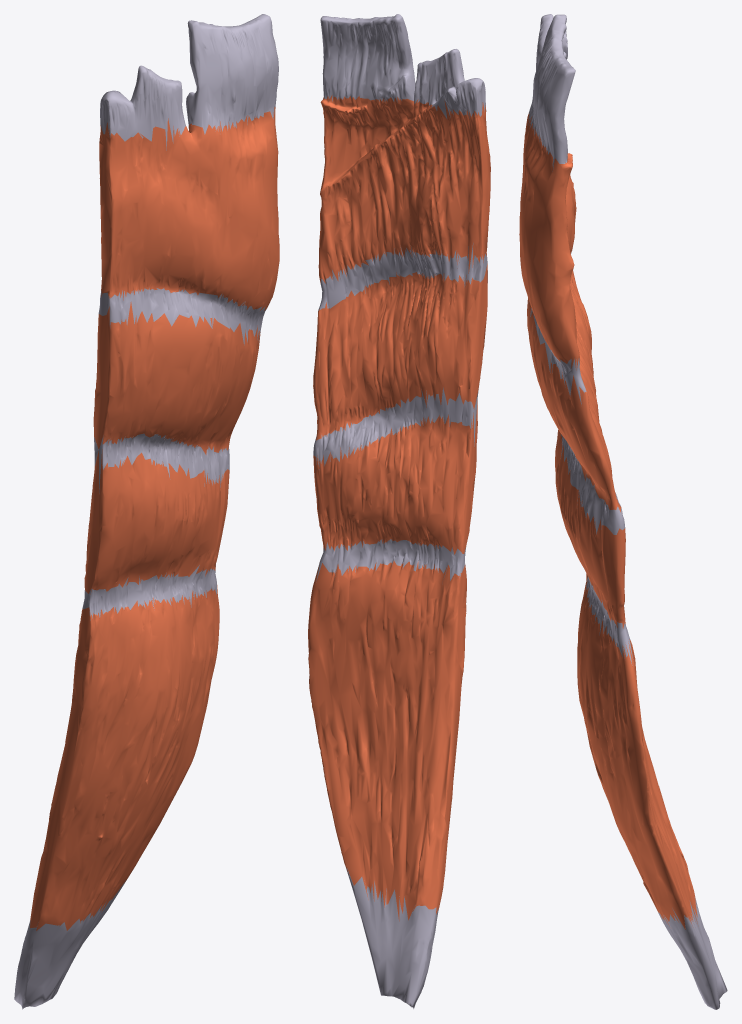
File: Rectus_abdominis_left.glb
The picture shows the model from 3 angles, left to right: view 1: azimuth 30°, elevation 25°; view 2: azimuth 150°, elevation 25°; view 3: azimuth 270°, elevation 25°; orthographic projection. The views are drawn at different scales.
Visible parts, largest first — view 1: Rectus_abdominis_muscle.l_Generated_Mesh_From_X3D.249; view 2: Rectus_abdominis_muscle.l_Generated_Mesh_From_X3D.249; view 3: Rectus_abdominis_muscle.l_Generated_Mesh_From_X3D.249.
Boxes of the visible parts, x1=… form: Rectus_abdominis_muscle.l_Generated_Mesh_From_X3D.249: x1=14, y1=14, x2=279, y2=1009; Rectus_abdominis_muscle.l_Generated_Mesh_From_X3D.249: x1=308, y1=14, x2=490, y2=1008; Rectus_abdominis_muscle.l_Generated_Mesh_From_X3D.249: x1=519, y1=14, x2=727, y2=1009.
Bounding box in the file's own units: 0.0787 × 0.4088 × 0.0746.
